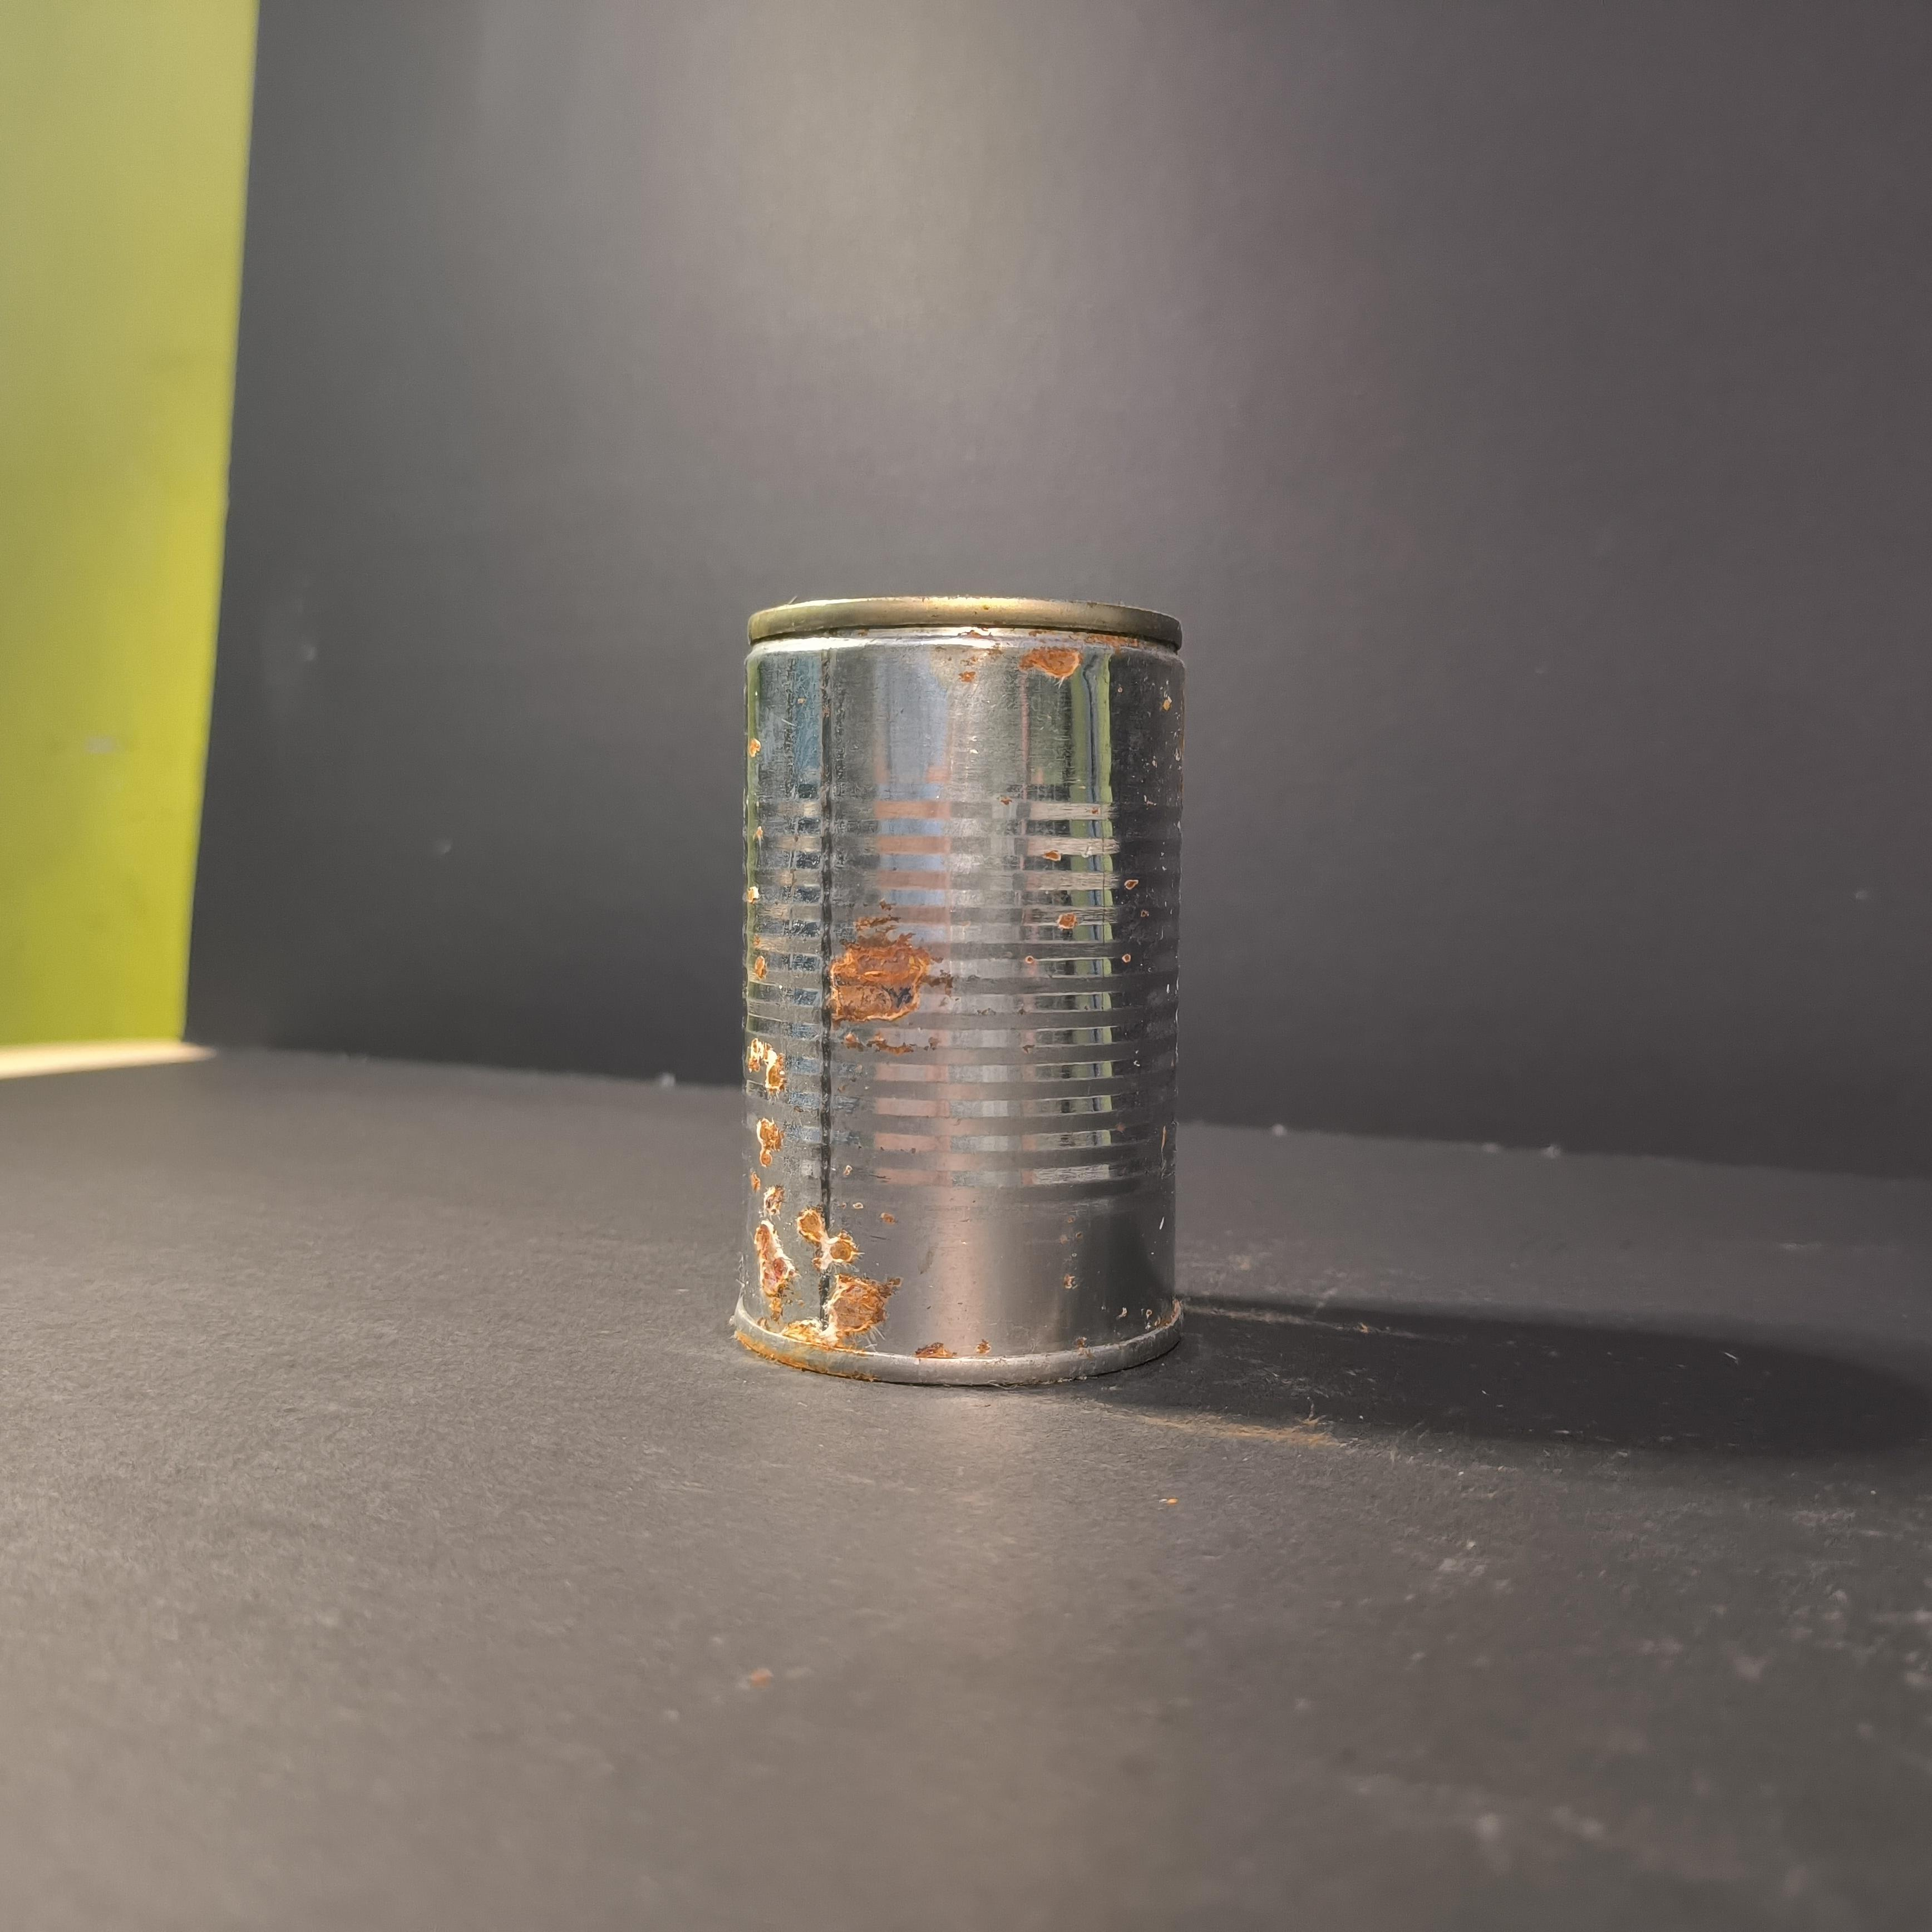Rusted: (732, 554, 1210, 1422)
